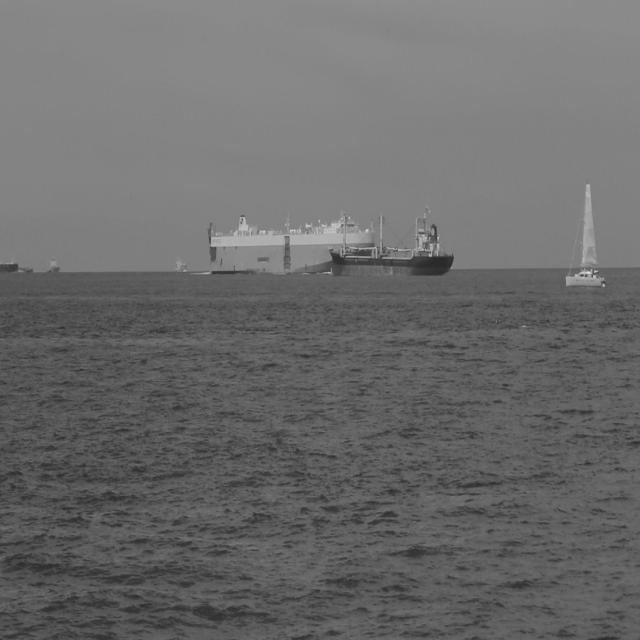ship: (205, 209, 375, 276), (327, 200, 456, 278), (564, 178, 607, 288), (0, 256, 19, 274), (46, 252, 60, 274), (16, 263, 34, 274)
